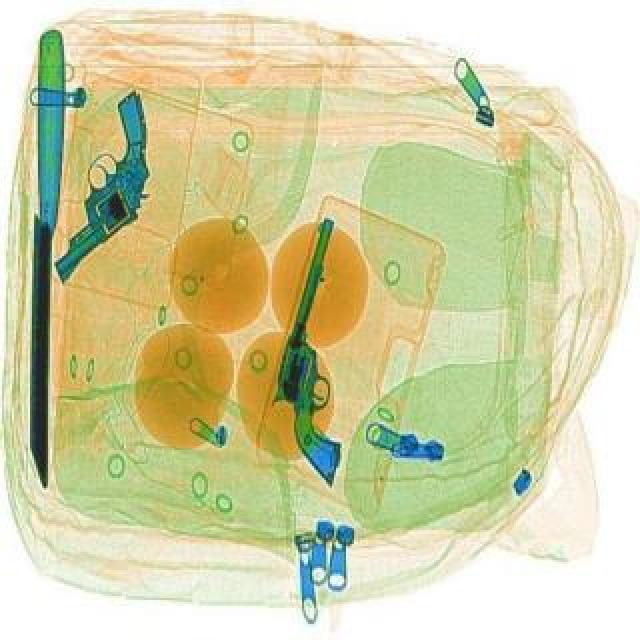gun: (2, 94, 208, 274), (256, 220, 392, 490)
knife: (32, 34, 70, 490)
